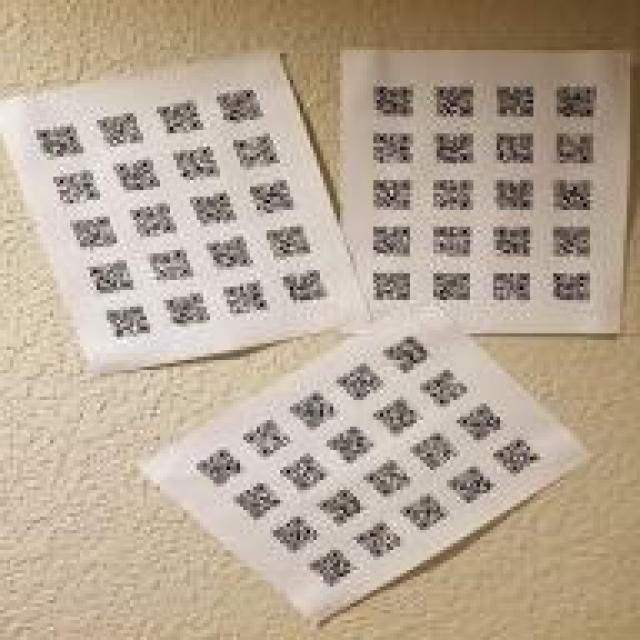QR_CODE: (210, 80, 270, 130), (46, 164, 106, 214), (376, 326, 436, 376), (548, 77, 610, 125), (62, 210, 123, 257), (450, 397, 507, 445), (490, 430, 547, 478), (27, 120, 90, 163), (417, 363, 473, 410), (308, 543, 364, 590), (93, 107, 150, 153), (350, 516, 407, 562), (264, 220, 324, 263), (188, 186, 244, 232), (287, 386, 343, 432), (492, 74, 543, 124), (250, 174, 307, 218), (100, 304, 157, 348), (278, 266, 340, 306), (190, 447, 247, 490), (322, 423, 380, 465), (145, 244, 200, 288), (335, 363, 390, 407), (265, 513, 320, 557), (357, 460, 413, 503), (228, 480, 284, 523), (170, 143, 227, 185), (203, 230, 260, 272), (113, 154, 167, 198), (443, 463, 497, 507), (237, 420, 293, 462), (397, 493, 453, 535), (277, 453, 333, 495), (232, 130, 286, 173), (430, 76, 480, 122), (218, 277, 274, 318), (368, 397, 424, 438), (423, 224, 480, 264), (127, 200, 180, 243), (162, 290, 216, 332), (372, 73, 420, 120), (155, 97, 210, 138), (408, 434, 464, 474), (488, 267, 540, 310), (315, 487, 367, 530), (545, 224, 600, 264), (548, 173, 600, 215), (423, 174, 477, 214), (363, 266, 417, 306), (82, 260, 136, 300), (427, 130, 480, 170), (367, 130, 420, 170), (547, 266, 600, 306), (488, 220, 540, 260), (365, 224, 417, 264), (368, 173, 417, 215), (492, 130, 543, 170), (488, 173, 540, 212), (427, 267, 480, 305), (553, 123, 600, 165)
